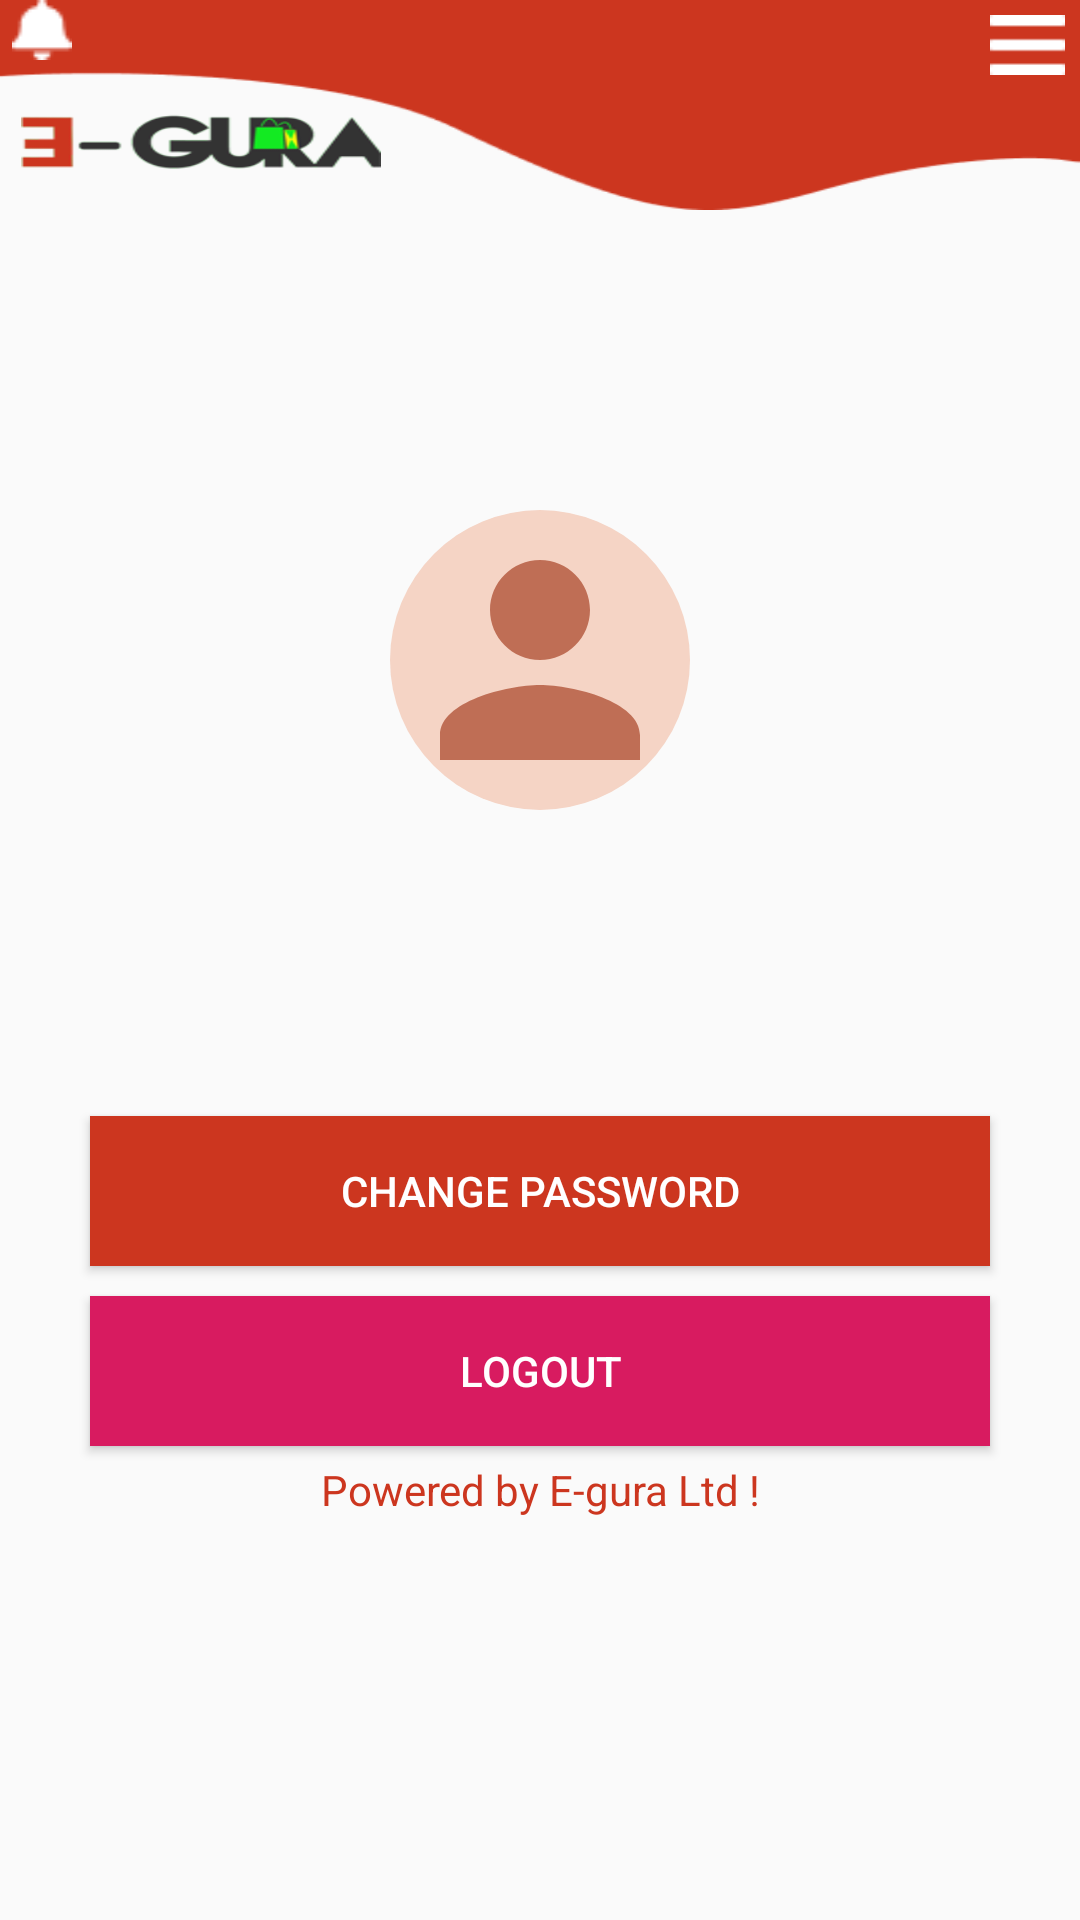

Point at icon controls on the screen. Image size 1080w x 1920h, points as point (x, y).
profile: point (540, 660)
